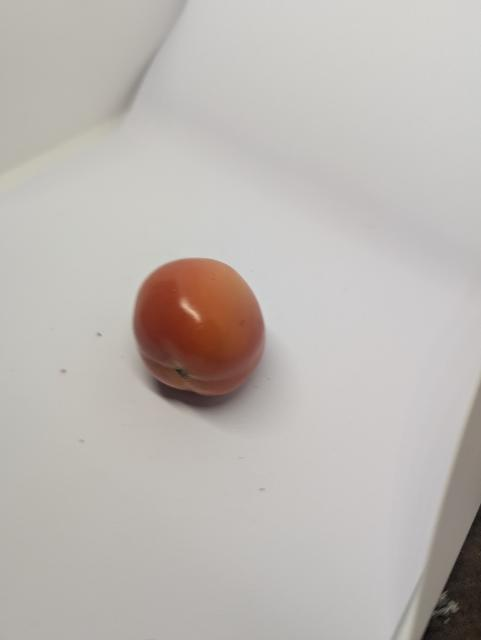red: (131, 255, 270, 405)
